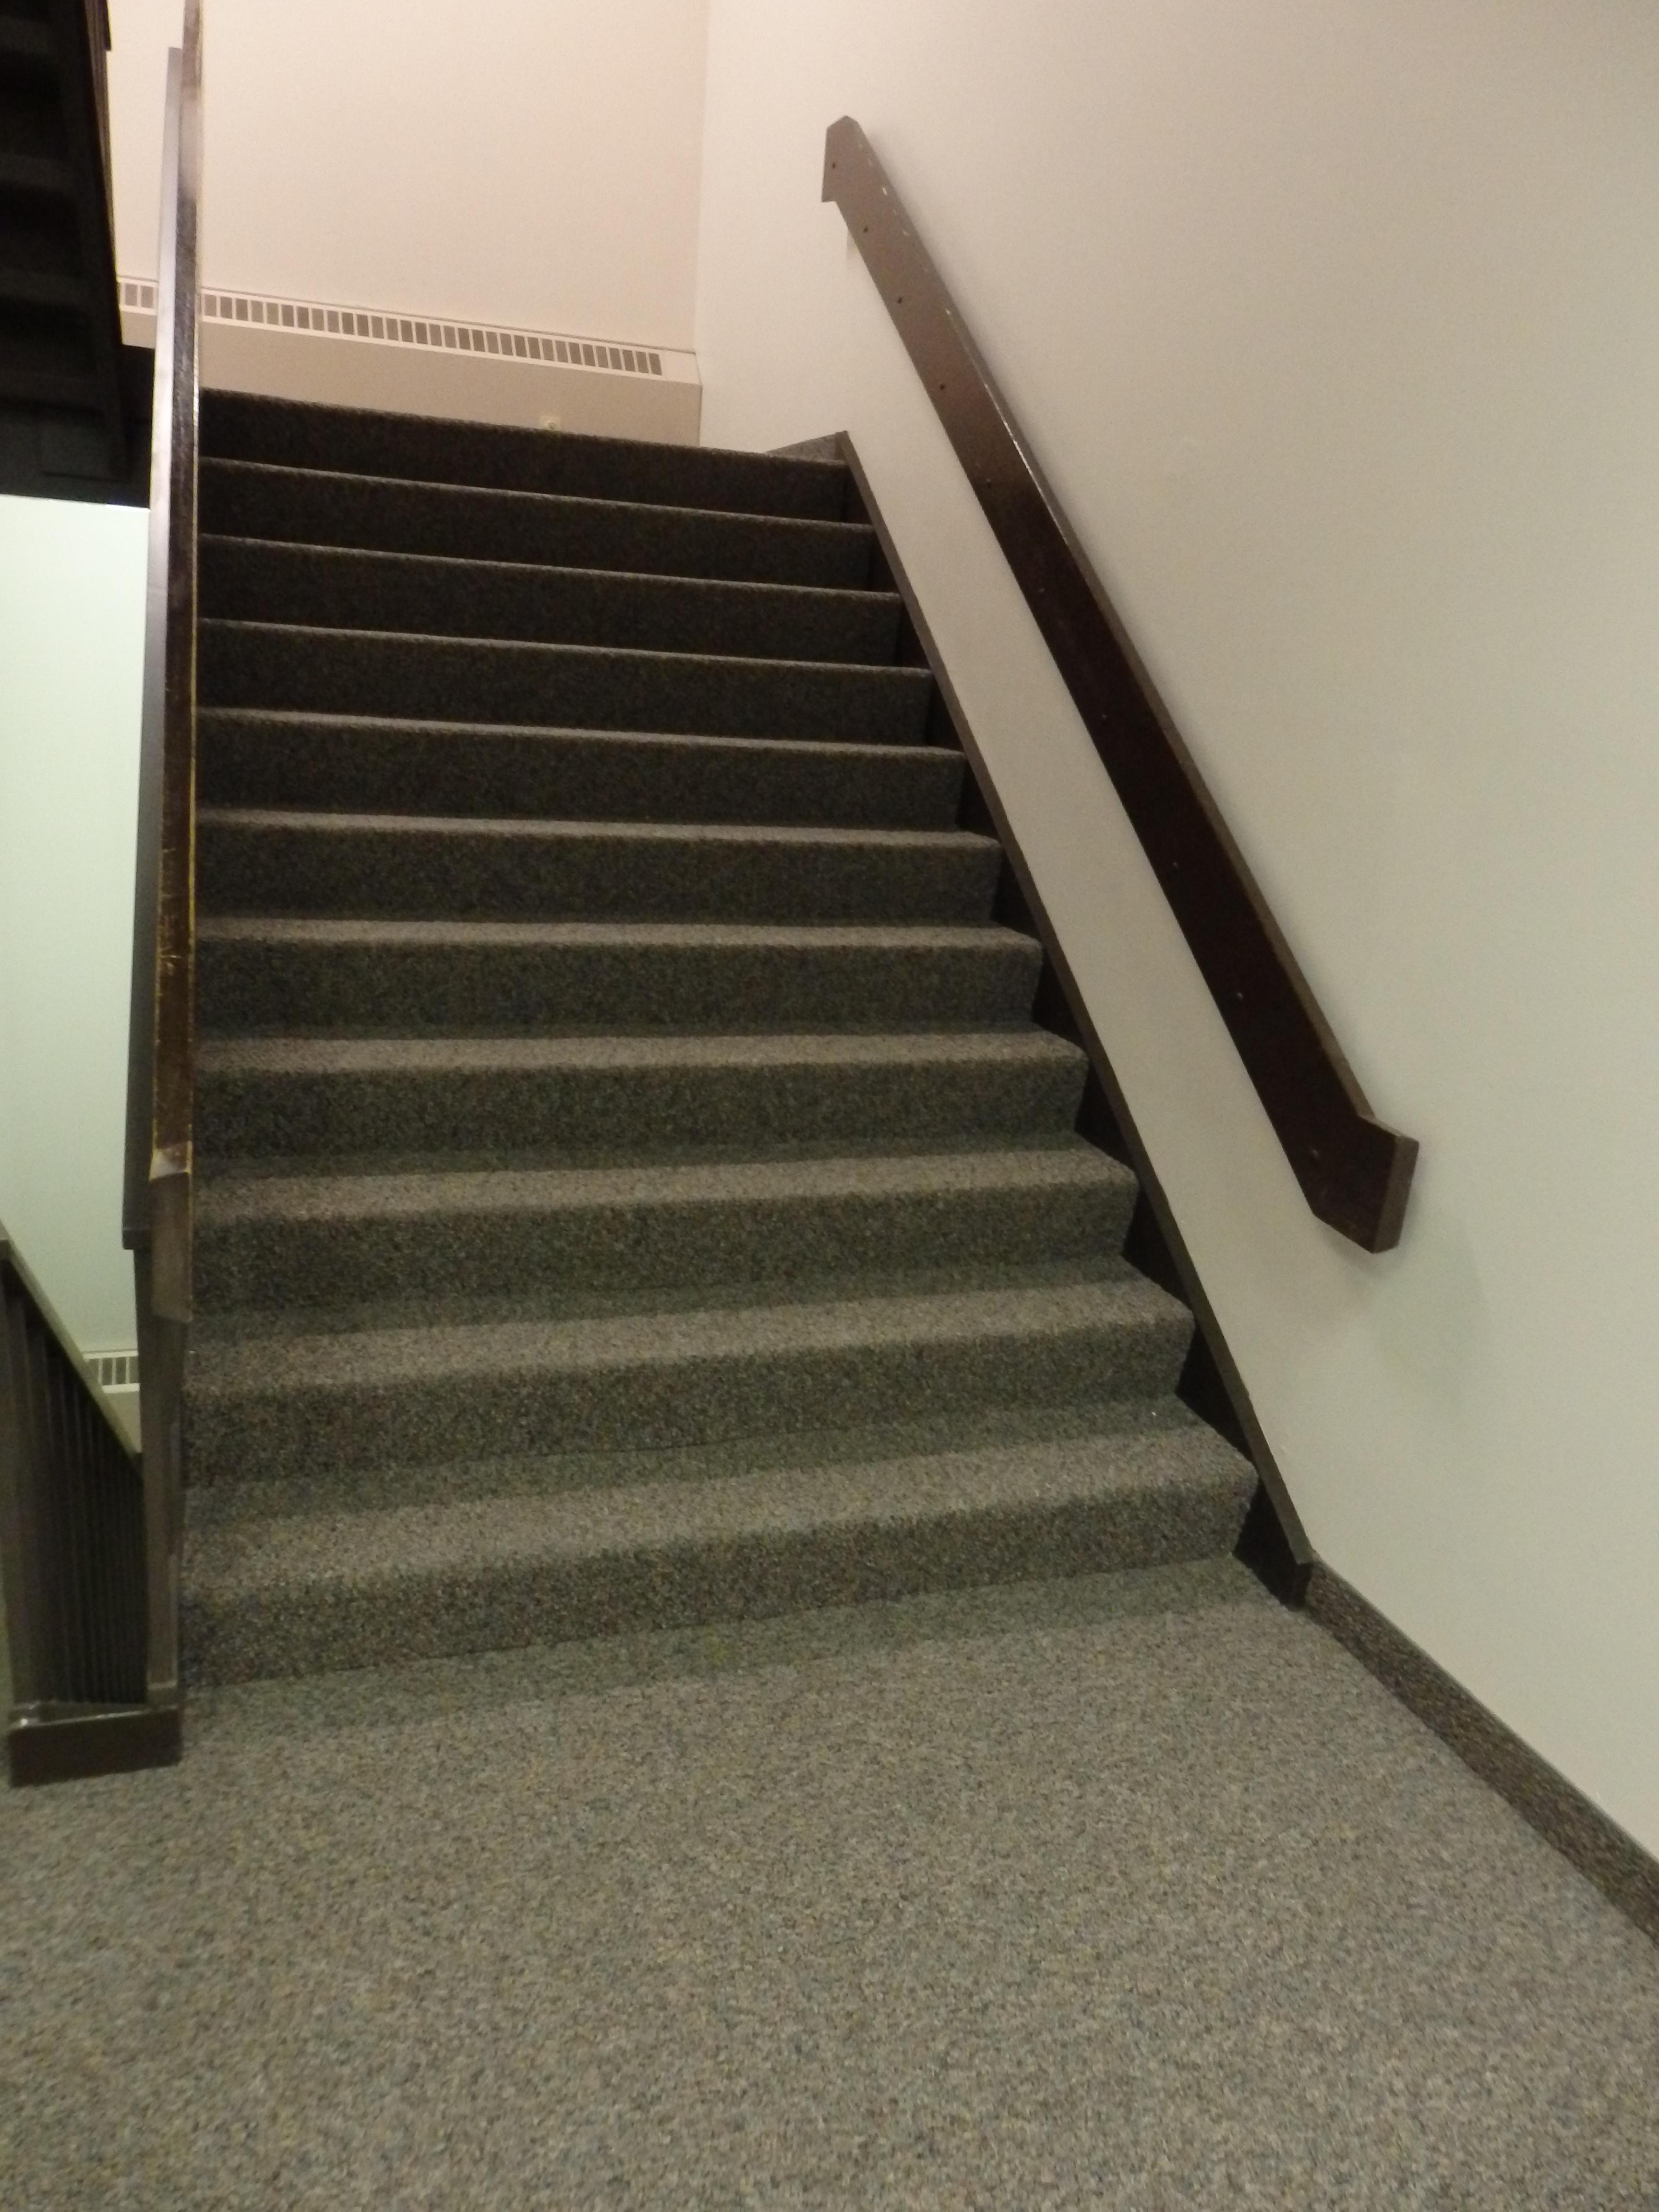stairs_up: (193, 373, 1211, 1639)
